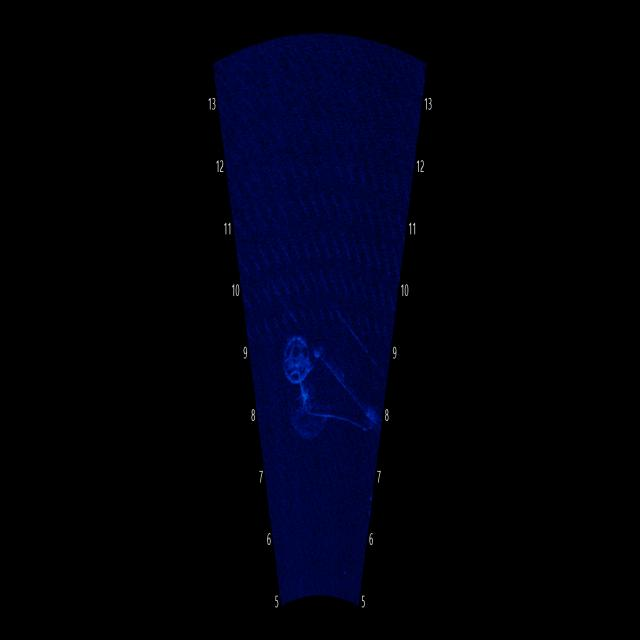circle: (277, 318, 322, 398)
